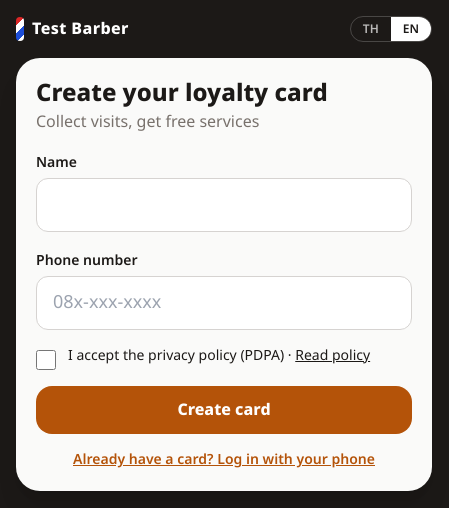
Test: Stamp – returning customer in a new browser › logging in with an unknown phone shows not-found
Click the button "Already have a card? Log in with your phone". click: [224, 460]
box: [36, 450, 412, 470]
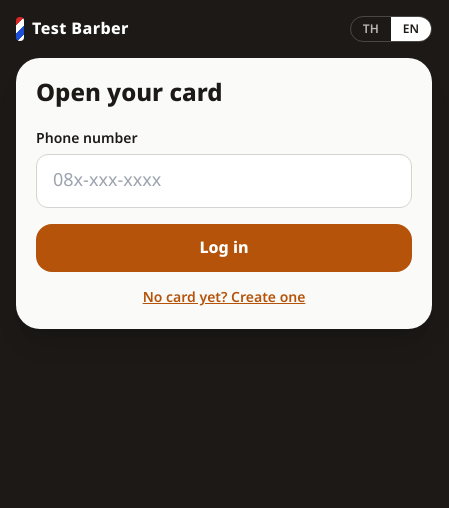
Type "0899999999" into the field labelled "Phone number". click: [224, 181]
box: [36, 154, 412, 208]
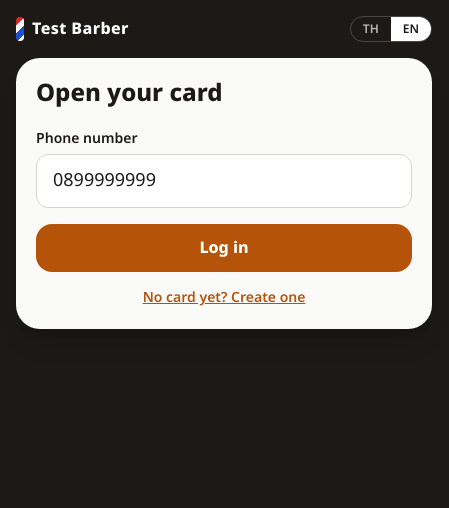
Click the button "Log in". click: [224, 248]
box: [36, 224, 412, 272]
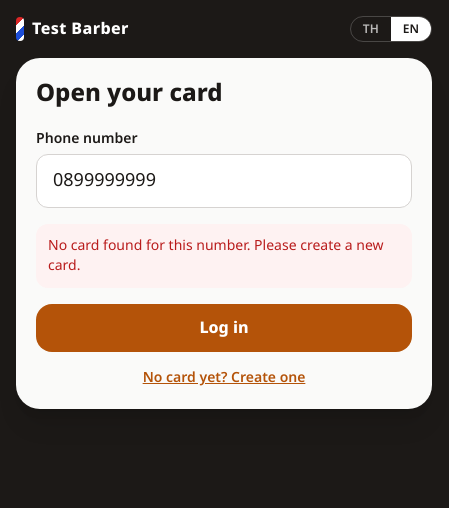
expect the text "No card found for this number. Please create a new card." is shown: met, box [36, 224, 412, 288]
